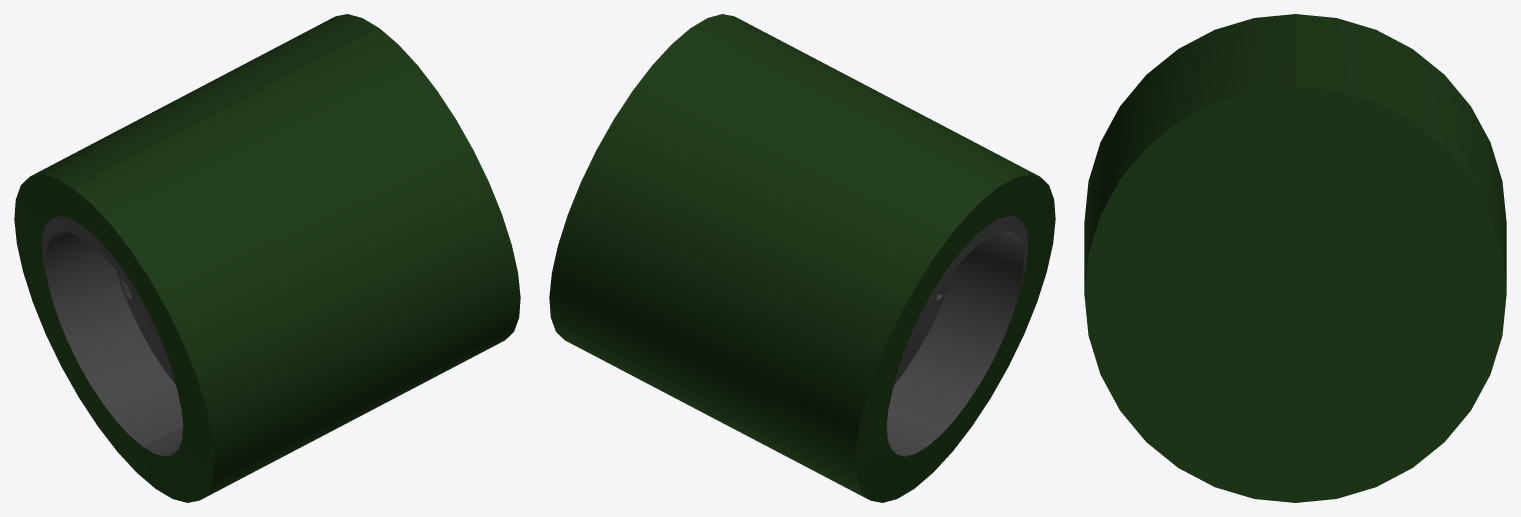
The model's file is ПТ_ГнездоНИП_П.fbx.
The picture shows the model from 3 angles, left to right: view 1: azimuth 30°, elevation 25°; view 2: azimuth 150°, elevation 25°; view 3: azimuth 270°, elevation 25°; orthographic projection. The views are drawn at different scales.
Visible parts, largest first — view 1: ПТ-ГнездоНИП.001; view 2: ПТ-ГнездоНИП.001; view 3: ПТ-ГнездоНИП.001.
Part boxes in pixels (left/top/right/bottom): ПТ-ГнездоНИП.001: left=14, top=14, right=520, bottom=502; ПТ-ГнездоНИП.001: left=549, top=14, right=1055, bottom=502; ПТ-ГнездоНИП.001: left=1084, top=14, right=1506, bottom=502.
Bounding box in the file's own units: 62.1 × 62.1 × 50.71.
Materials: 1 (1 with a texture image).
